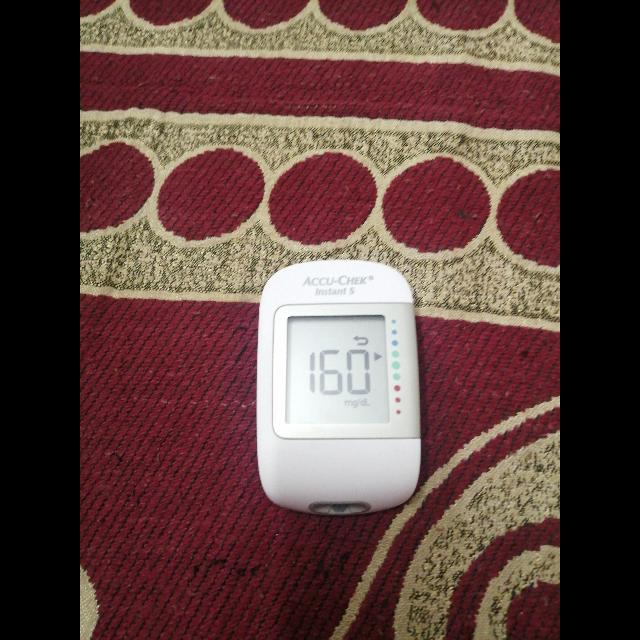Glucose-Meter: (256, 260, 422, 514)
